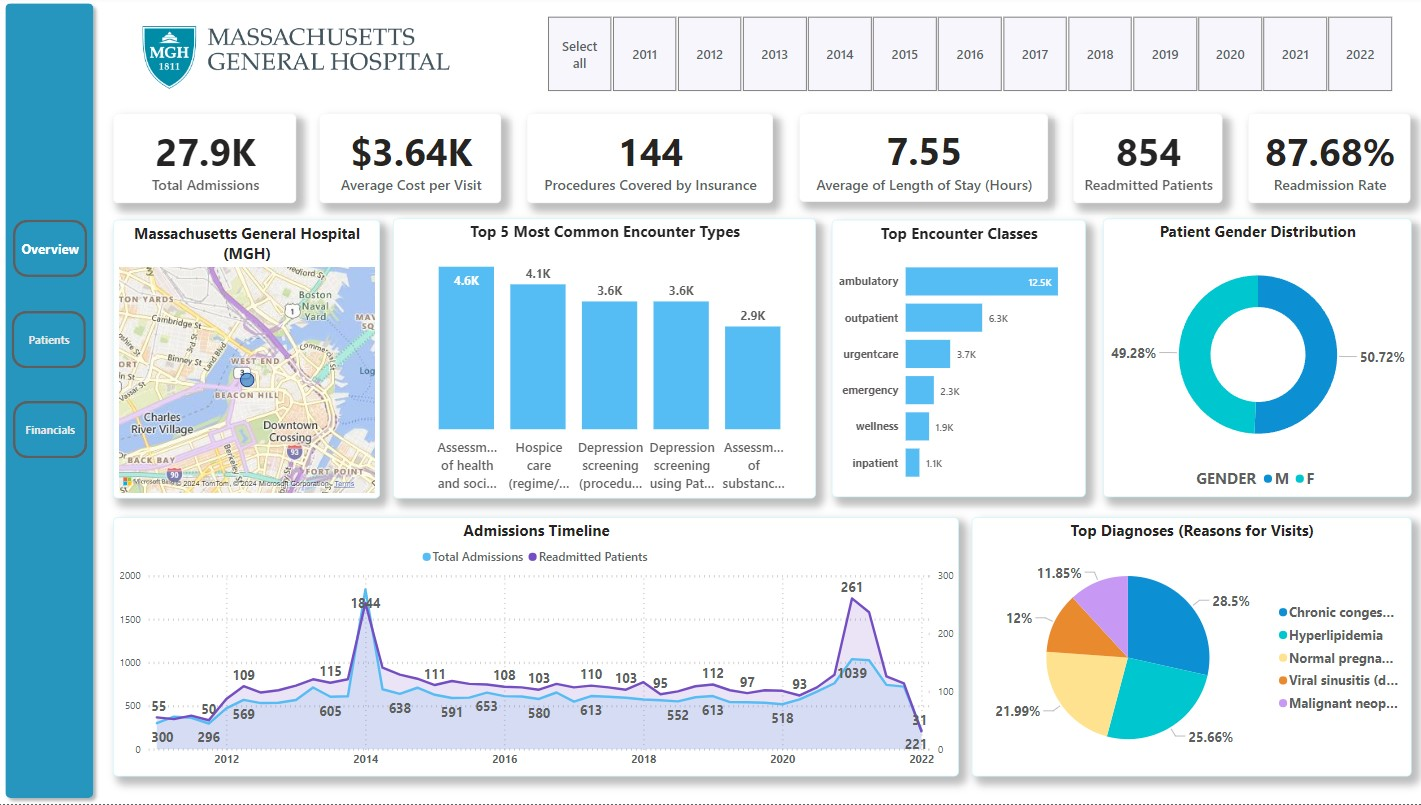

What the dashboard file says about the page in this screenshot:
{"tool":"powerbi","page":{"name":"Overview","canvas":[1764,996],"ordinal":0},"visuals":[{"type":"card","fields":{"Values":["encounters.Average Cost per Visit"]},"box":[395.8,144.2,224.3,110.6],"z":0},{"type":"card","fields":{"Values":["encounters.Procedures Covered by Insurance"]},"box":[650.6,144.2,302.9,110.6],"z":1000},{"type":"card","fields":{"Values":["Avg(encounters.Length of Stay (Hours))"]},"box":[987.1,144.2,306.1,109],"z":2000},{"type":"map","title":"Massachusetts General Hospital (MGH)","fields":{"Category":["organizations.ADDRESS"]},"box":[141,275.6,328.5,342.9],"z":3000},{"type":"areaChart","title":"Admissions Timeline","fields":{"Y":["encounters.Number of Admissions"],"Y2":["encounters.Readmitted Patients"],"Category":["encounters.START.Variation.Date Hierarchy.Year","encounters.START.Variation.Date Hierarchy.Quarter"]},"box":[141,642.6,1041.6,318.9],"z":4000},{"type":"donutChart","title":"Patient Gender Distribution","fields":{"Category":["patients.GENDER"],"Y":["CountNonNull(patients.GENDER)"]},"box":[1360.5,274,379.8,342.9],"z":5000},{"type":"columnChart","title":" Top 5 Most Common Encounter Types","fields":{"Category":["procedures.DESCRIPTION"],"Y":["CountNonNull(procedures.PATIENT)"]},"box":[487.2,274,520.8,344.5],"z":6000},{"type":"slicer","fields":{"Values":["encounters.START.Variation.Date Hierarchy.Year"]},"box":[650.6,19.2,1089.7,105.8],"z":7000},{"type":"shape","box":[0,0,126.6,996.7],"z":8000},{"type":"actionButton","box":[19.2,275.6,91.3,70.5],"z":9000},{"type":"actionButton","box":[17.6,387.8,91.3,70.5],"z":10000},{"type":"actionButton","box":[19.2,498.4,91.3,70.5],"z":11000},{"type":"pieChart","title":"Top Diagnoses (Reasons for Visits)","fields":{"Category":["encounters.REASONDESCRIPTION"],"Y":["CountNonNull(encounters.Id)"]},"box":[1198.7,642.6,541.6,318.9],"z":12000},{"type":"clusteredBarChart","title":"Top Encounter Classes","fields":{"Y":["encounters.Encounter Count by Description"],"Category":["encounters.ENCOUNTERCLASS"]},"box":[1027.2,275.6,312.5,341.3],"z":13000},{"type":"card","fields":{"Values":["encounters.ReadmissionRate"]},"box":[1540,144.2,200.3,110.6],"z":14000},{"type":"card","fields":{"Values":["encounters.ReadmittedPatients"]},"box":[1323.6,144.2,184.3,110.6],"z":15000},{"type":"card","fields":{"Values":["encounters.Number of Admissions"]},"box":[141,144.2,225.9,110.6],"z":16000},{"type":"image","box":[0,0,733.9,144.2],"z":17000}]}

Visuals, with their boxes on the page's 1764x996 design canvas (x1, y1, x2, y2). These are canvas units, not pixel positions in the 1421x805 screenshot, which may show the page scaled, cropped or inside an application window:
card - encounters.Average Cost per Visit: <box>396,144,620,255</box>
card - encounters.Procedures Covered by Insurance: <box>651,144,954,255</box>
card - Avg(encounters.Length of Stay (Hours)): <box>987,144,1293,253</box>
"Massachusetts General Hospital (MGH)" map: <box>141,276,470,618</box>
"Admissions Timeline" areaChart: <box>141,643,1183,962</box>
"Patient Gender Distribution" donutChart: <box>1360,274,1740,617</box>
" Top 5 Most Common Encounter Types" columnChart: <box>487,274,1008,618</box>
slicer - encounters.START.Variation.Date Hierarchy.Year: <box>651,19,1740,125</box>
shape: <box>0,0,127,997</box>
actionButton: <box>19,276,110,346</box>
actionButton: <box>18,388,109,458</box>
actionButton: <box>19,498,110,569</box>
"Top Diagnoses (Reasons for Visits)" pieChart: <box>1199,643,1740,962</box>
"Top Encounter Classes" clusteredBarChart: <box>1027,276,1340,617</box>
card - encounters.ReadmissionRate: <box>1540,144,1740,255</box>
card - encounters.ReadmittedPatients: <box>1324,144,1508,255</box>
card - encounters.Number of Admissions: <box>141,144,367,255</box>
image: <box>0,0,734,144</box>
